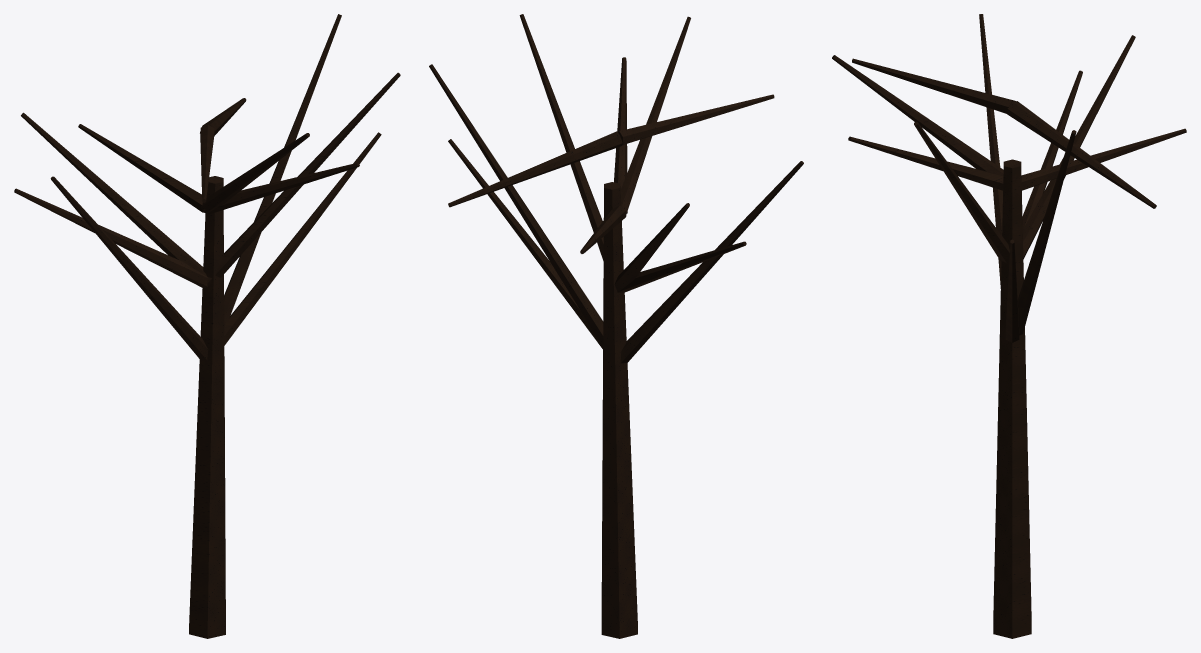
Rendered from PROP-64D99EA09800_lod2.glb.
The picture shows the model from 3 angles, left to right: view 1: azimuth 30°, elevation 25°; view 2: azimuth 150°, elevation 25°; view 3: azimuth 270°, elevation 25°; orthographic projection. The views are drawn at different scales.
Visible parts, largest first — view 1: branch.009, trunk.021; view 2: branch.009, trunk.021; view 3: branch.009, trunk.021.
Boxes of the visible parts, x1=… form: branch.009: x1=14, y1=14, x2=400, y2=360; trunk.021: x1=189, y1=176, x2=225, y2=638; branch.009: x1=429, y1=14, x2=803, y2=363; trunk.021: x1=601, y1=182, x2=637, y2=638; branch.009: x1=832, y1=14, x2=1186, y2=342; trunk.021: x1=993, y1=159, x2=1031, y2=638.
Bounding box in the file's own units: 4.49 × 6.91 × 3.82.
Materials: 1 (1 with a texture image).
